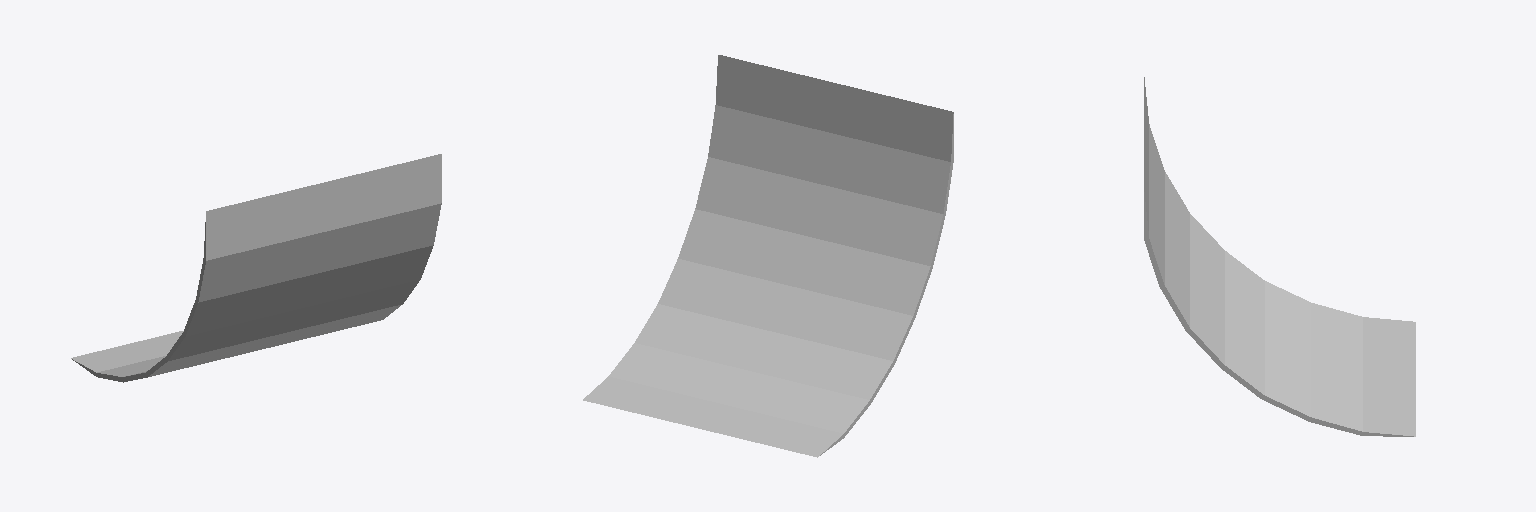
The model's file is quarterpipe2.obj.
3 views of the same model, side by side, from view 1: azimuth 30°, elevation 25°; view 2: azimuth 150°, elevation 25°; view 3: azimuth 270°, elevation 25° (orthographic).
Visible parts, largest first — view 1: Cube.001; view 2: Cube.001; view 3: Cube.001.
Part boxes in pixels (x1,y1,x2,y2): Cube.001: (71,154,441,382); Cube.001: (583,55,953,457); Cube.001: (1144,77,1415,436).
Size of the model in its own units: 11 by 11 by 11.